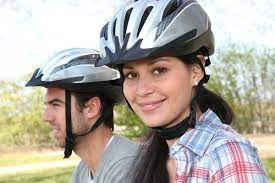helmets: (89, 2, 222, 66), (16, 42, 124, 98)
